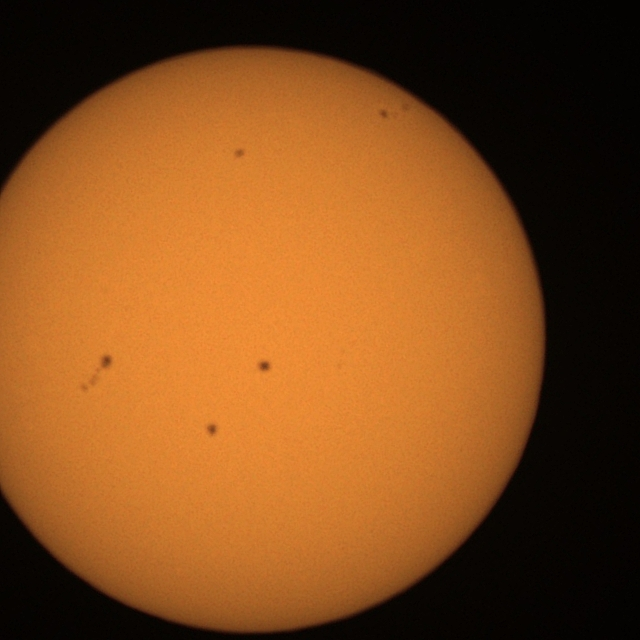sunspot: (378, 101, 415, 124), (94, 352, 114, 374), (256, 359, 273, 375), (204, 422, 219, 438), (233, 147, 246, 160)
